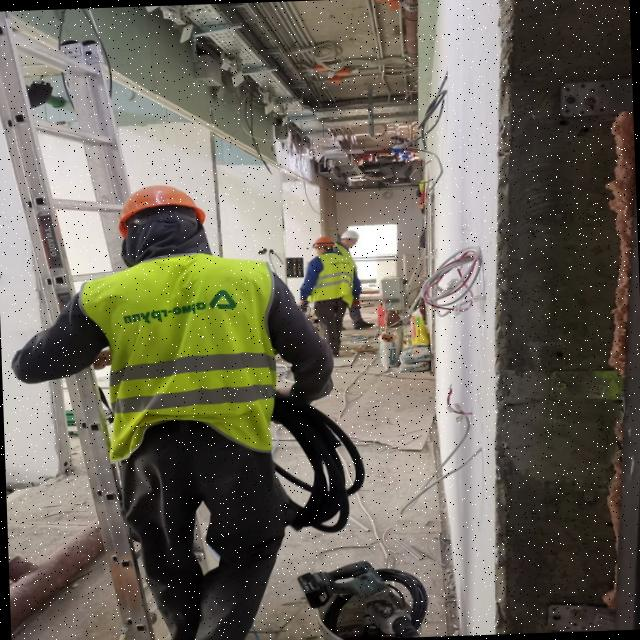Helmet: (116, 183, 209, 234), (313, 237, 336, 250), (340, 230, 361, 241)
Jacket: (103, 255, 272, 456), (308, 252, 353, 302)
